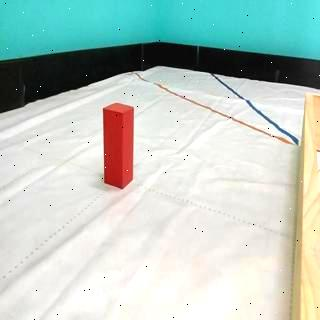redbox: (102, 102, 137, 188)
